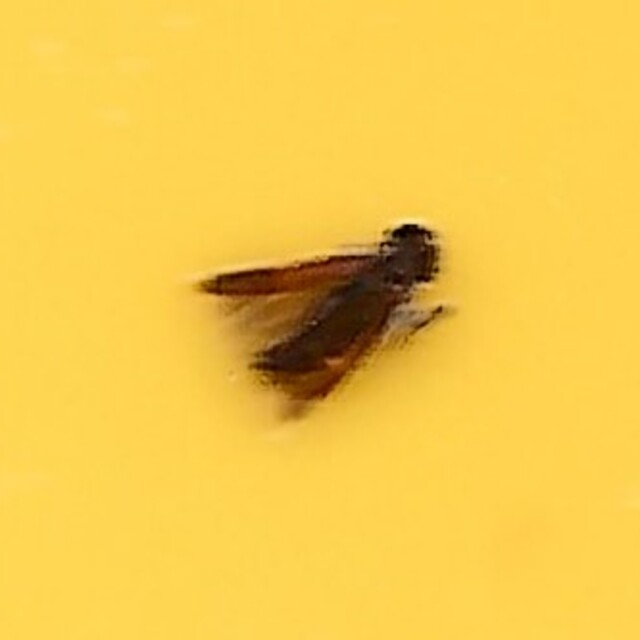Hemiptera: (192, 222, 448, 418)
